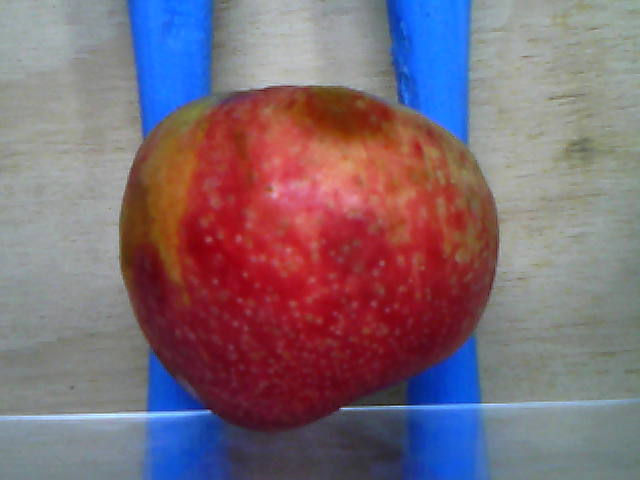bruise: (294, 83, 396, 146)
